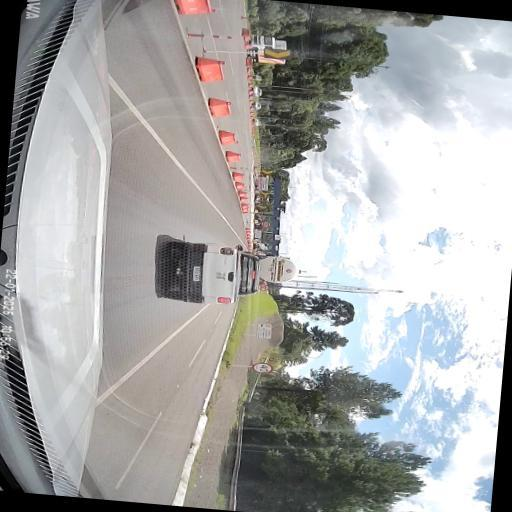R-19: (250, 362, 272, 374)
R-6c: (258, 284, 268, 291), (260, 221, 270, 227)
